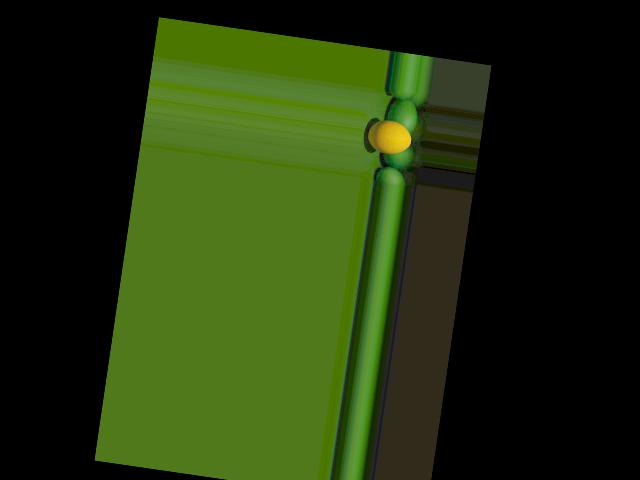egg: (365, 117, 413, 156)
